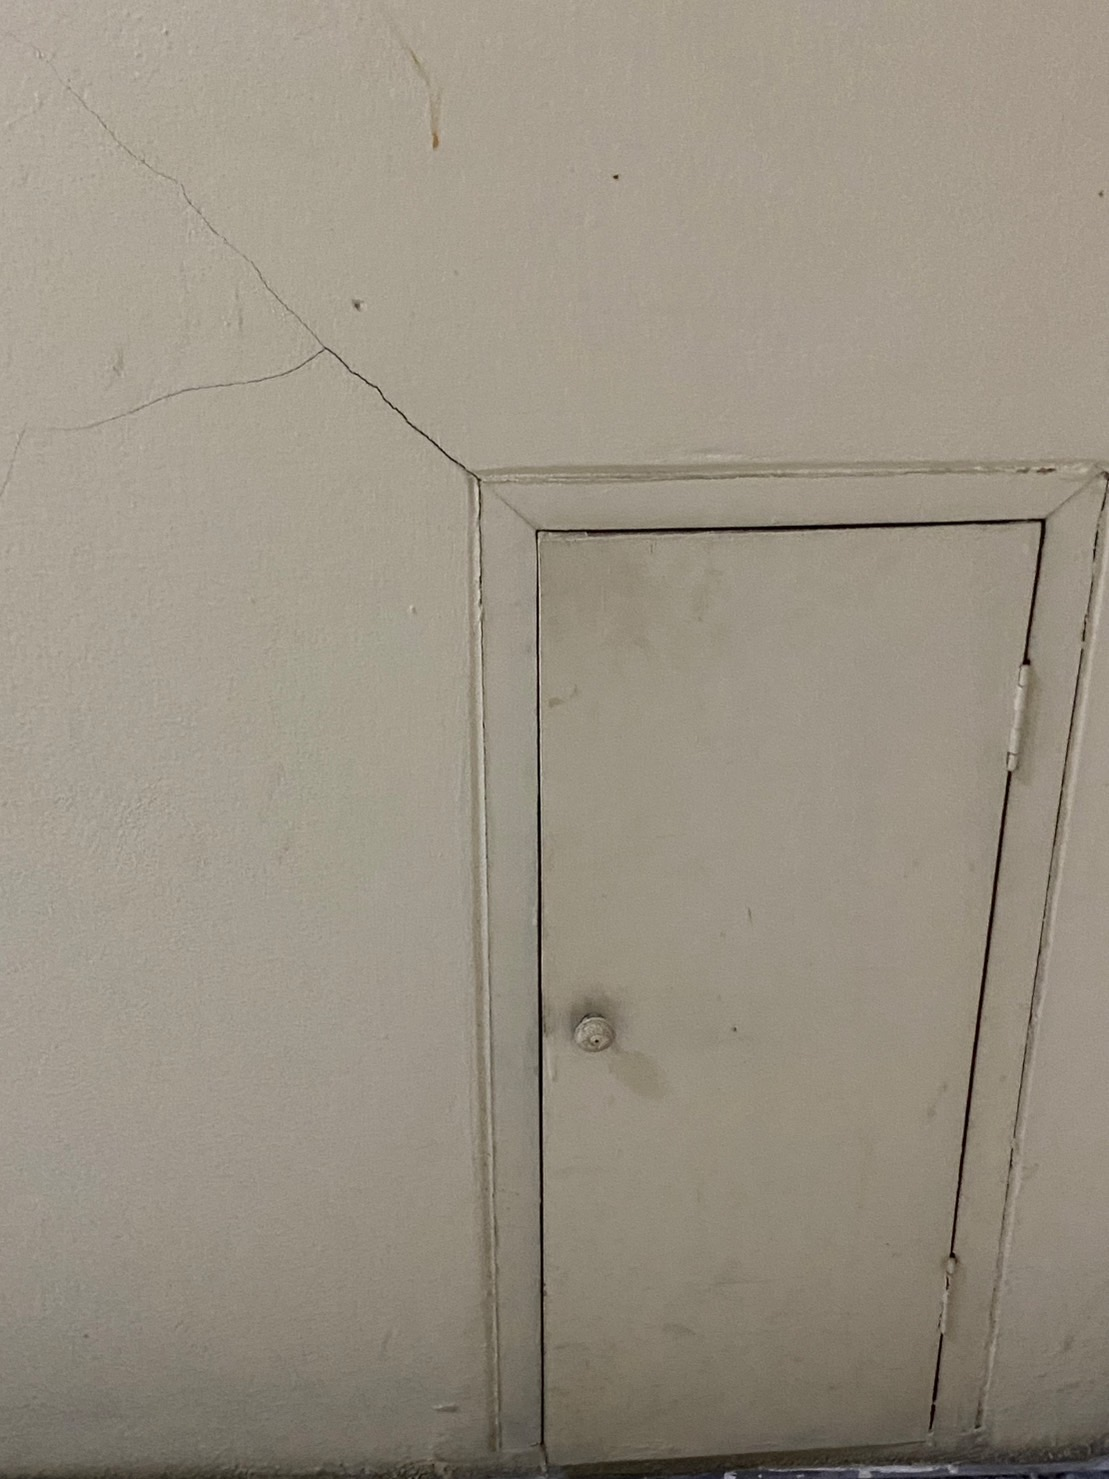Low: (1, 1, 483, 480)
